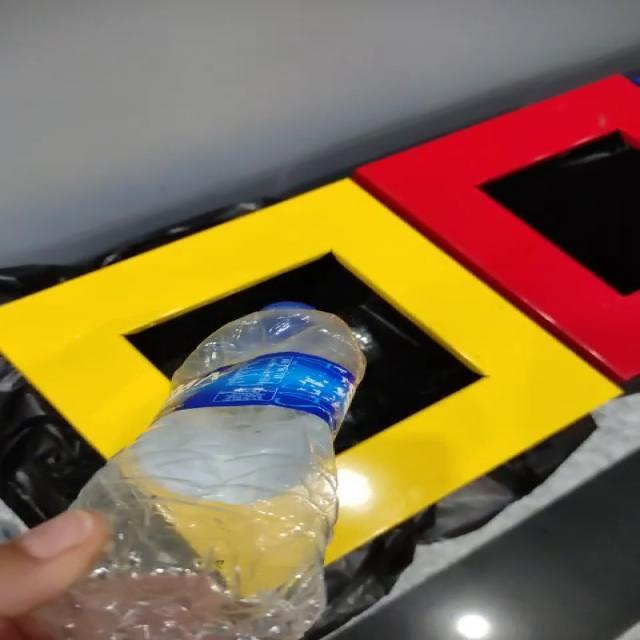Plastic: (37, 305, 365, 640)
